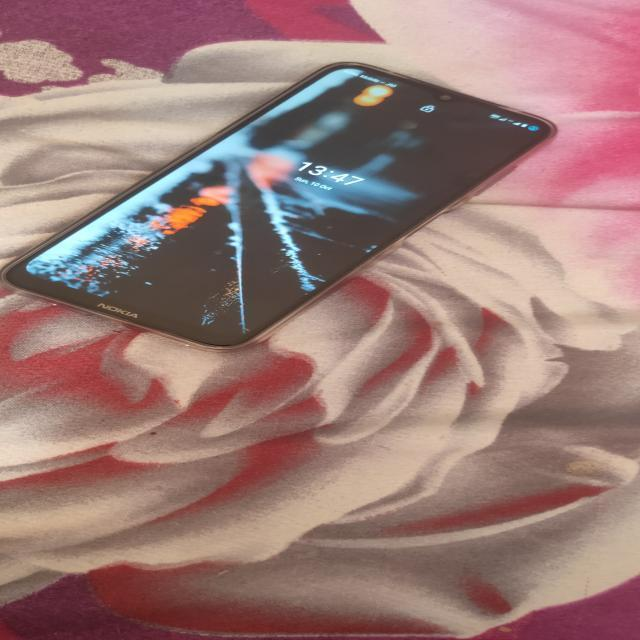Phone: (11, 58, 568, 357)
